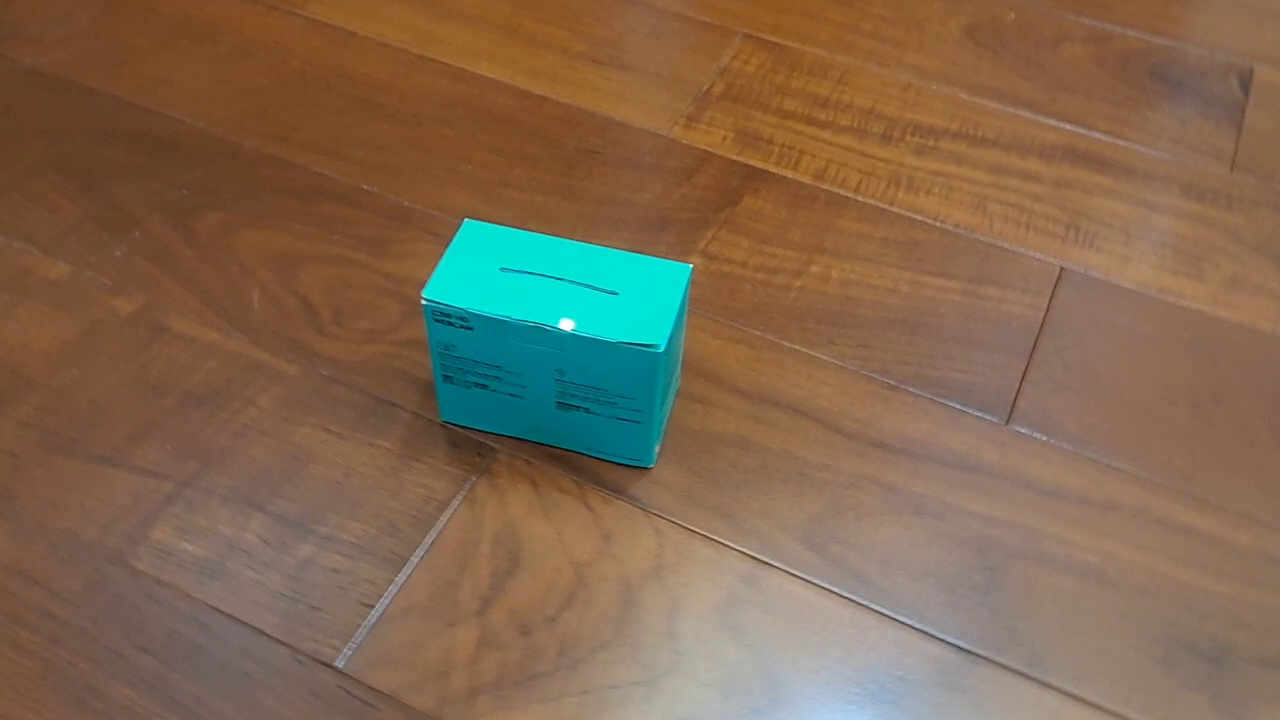webcam: (417, 215, 696, 471)
